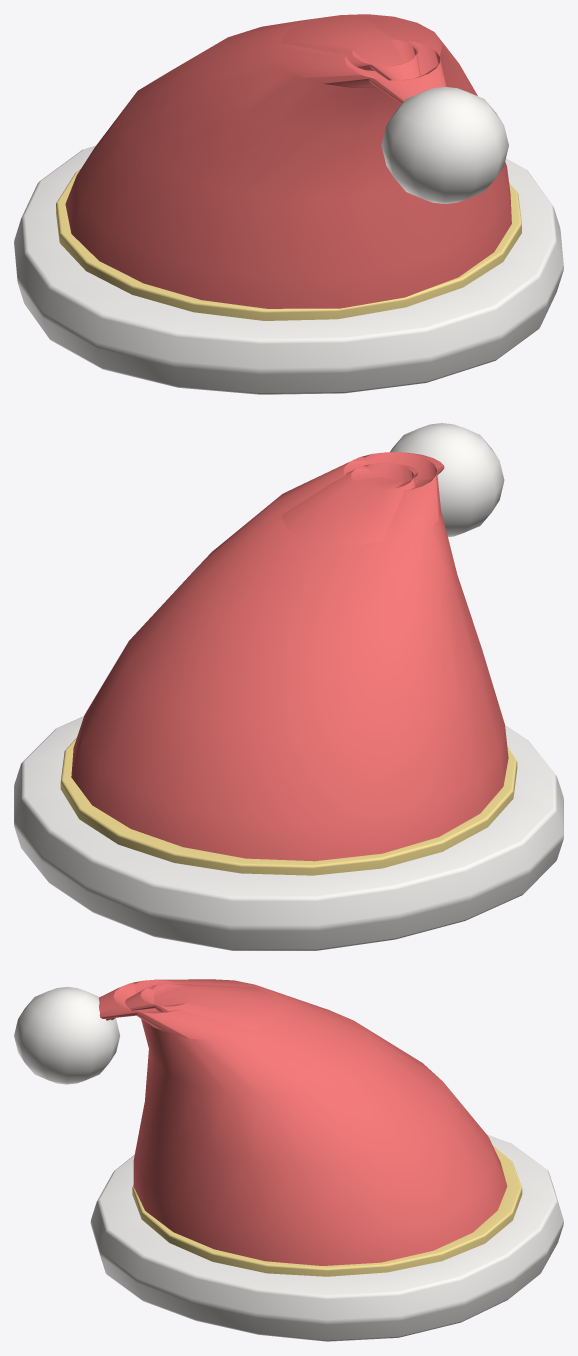
File: santa.glb
3 renders of one model, top to bottom at view 1: azimuth 30°, elevation 25°; view 2: azimuth 150°, elevation 25°; view 3: azimuth 270°, elevation 25°, orthographic. The views are drawn at different scales.
Parts seen in each view (by area): view 1: HAT_Santa_Body, HAT_Santa_Cuff, HAT_Santa_Pom, HAT_Santa_Band; view 2: HAT_Santa_Body, HAT_Santa_Cuff, HAT_Santa_Band, HAT_Santa_Pom; view 3: HAT_Santa_Body, HAT_Santa_Cuff, HAT_Santa_Pom, HAT_Santa_Band.
Boxes of the visible parts, x1,y1,x2,y2 form: HAT_Santa_Body: (65,14,511,308); HAT_Santa_Cuff: (14,145,563,394); HAT_Santa_Pom: (381,87,508,203); HAT_Santa_Band: (56,169,521,320); HAT_Santa_Body: (71,452,508,861); HAT_Santa_Cuff: (14,716,563,950); HAT_Santa_Band: (60,737,517,875); HAT_Santa_Pom: (390,423,504,537); HAT_Santa_Body: (99,979,507,1265); HAT_Santa_Cuff: (90,1134,563,1341); HAT_Santa_Pom: (14,987,120,1084); HAT_Santa_Band: (132,1146,522,1276).
Bounding box in the file's own units: 0.6549 × 0.3965 × 0.761.
